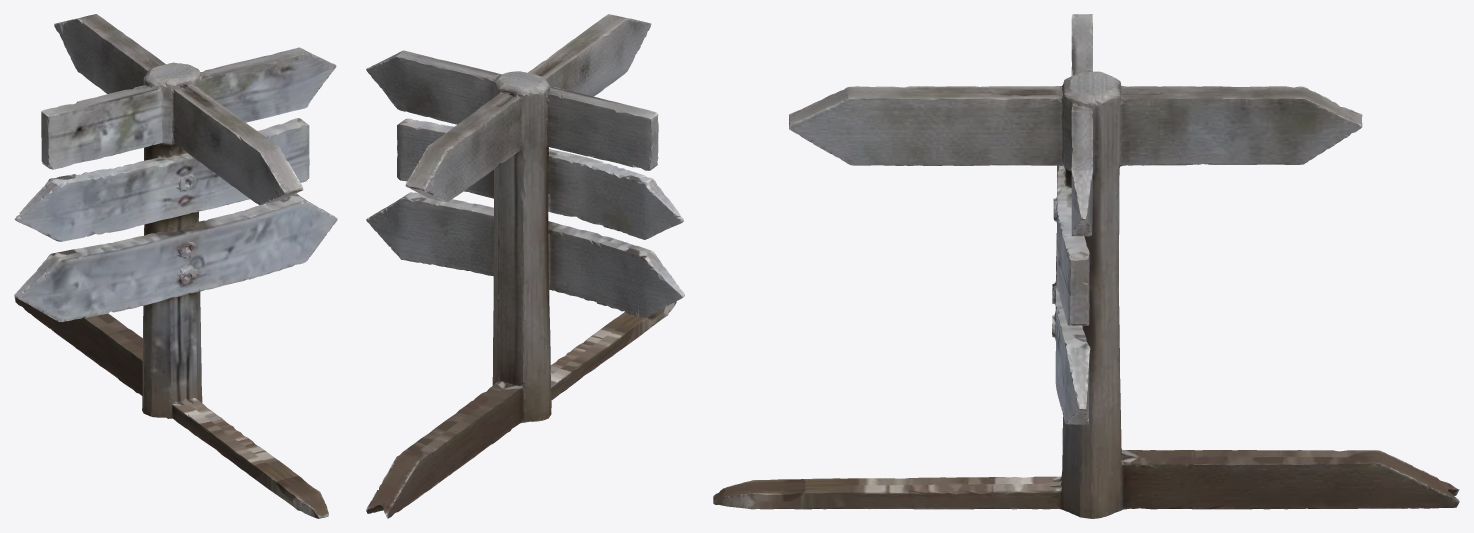
Rendered from signpost-hd.glb.
3 views of the same model, side by side, from view 1: azimuth 30°, elevation 25°; view 2: azimuth 150°, elevation 25°; view 3: azimuth 270°, elevation 25° (orthographic). The views are drawn at different scales.
Parts seen in each view (by area): view 1: RODIN_SIGNPOST; view 2: RODIN_SIGNPOST; view 3: RODIN_SIGNPOST.
Part boxes in pixels (x1,y1,x2,y2): RODIN_SIGNPOST: (14,14,337,518); RODIN_SIGNPOST: (366,14,684,518); RODIN_SIGNPOST: (713,14,1459,518).
Size of the model in its own units: 5.6 by 5.6 by 9.04.
1 material, 1 textured.
